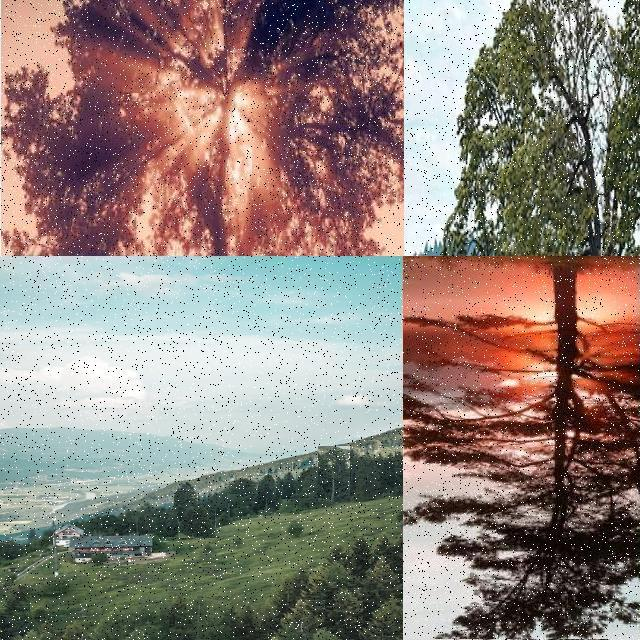tree: (0, 0, 404, 256), (403, 256, 640, 639), (451, 0, 615, 256), (169, 596, 231, 640), (359, 561, 403, 605), (318, 446, 350, 502), (75, 607, 129, 640), (325, 588, 363, 628), (280, 596, 320, 632), (0, 586, 30, 632), (298, 570, 342, 600), (178, 504, 216, 538), (376, 535, 404, 581), (350, 462, 382, 498), (348, 536, 374, 576), (0, 600, 22, 640), (7, 626, 65, 640), (258, 474, 276, 512), (174, 482, 198, 506), (1, 547, 16, 581), (229, 478, 259, 494), (395, 446, 403, 490), (284, 471, 296, 481)
